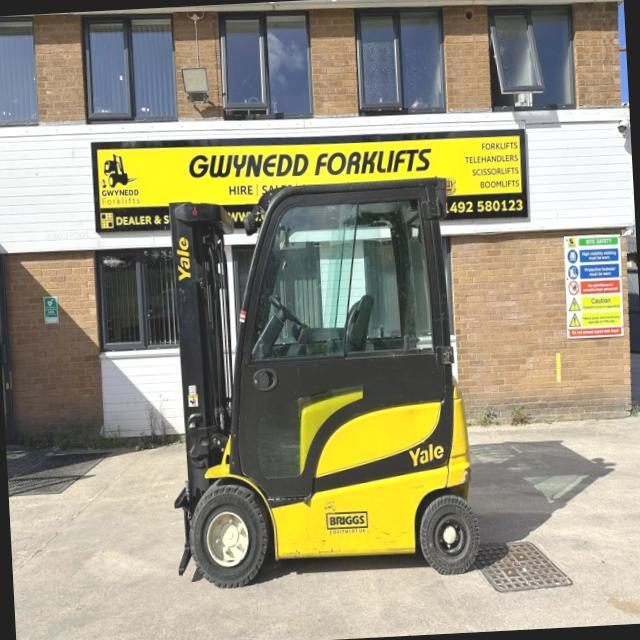forklift: (138, 163, 486, 598)
